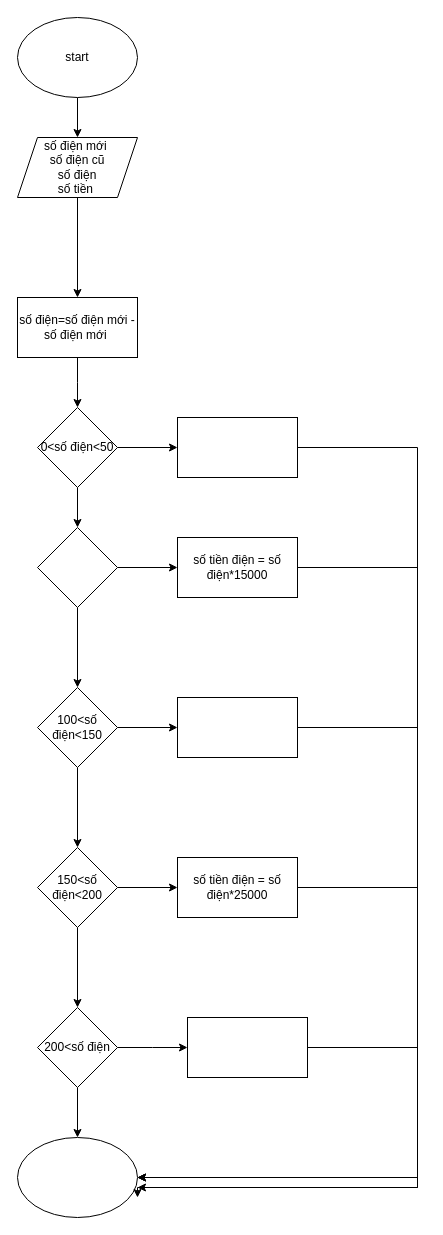
Image size: 443x1235. Some labels were removed from this diagram. The shapes that lost their labels are listed below. From the top down, each one's box as (x1, y1, x2, y2) in pixels, then its label:
(176, 416, 298, 478): số tiền điện =số điện*10000
(36, 526, 118, 608): 50<số điện<100
(176, 696, 298, 758): số tiền điện = số điện*20000
(186, 1016, 308, 1078): số tiền điện = số điện*30000
(16, 1136, 138, 1218): end
